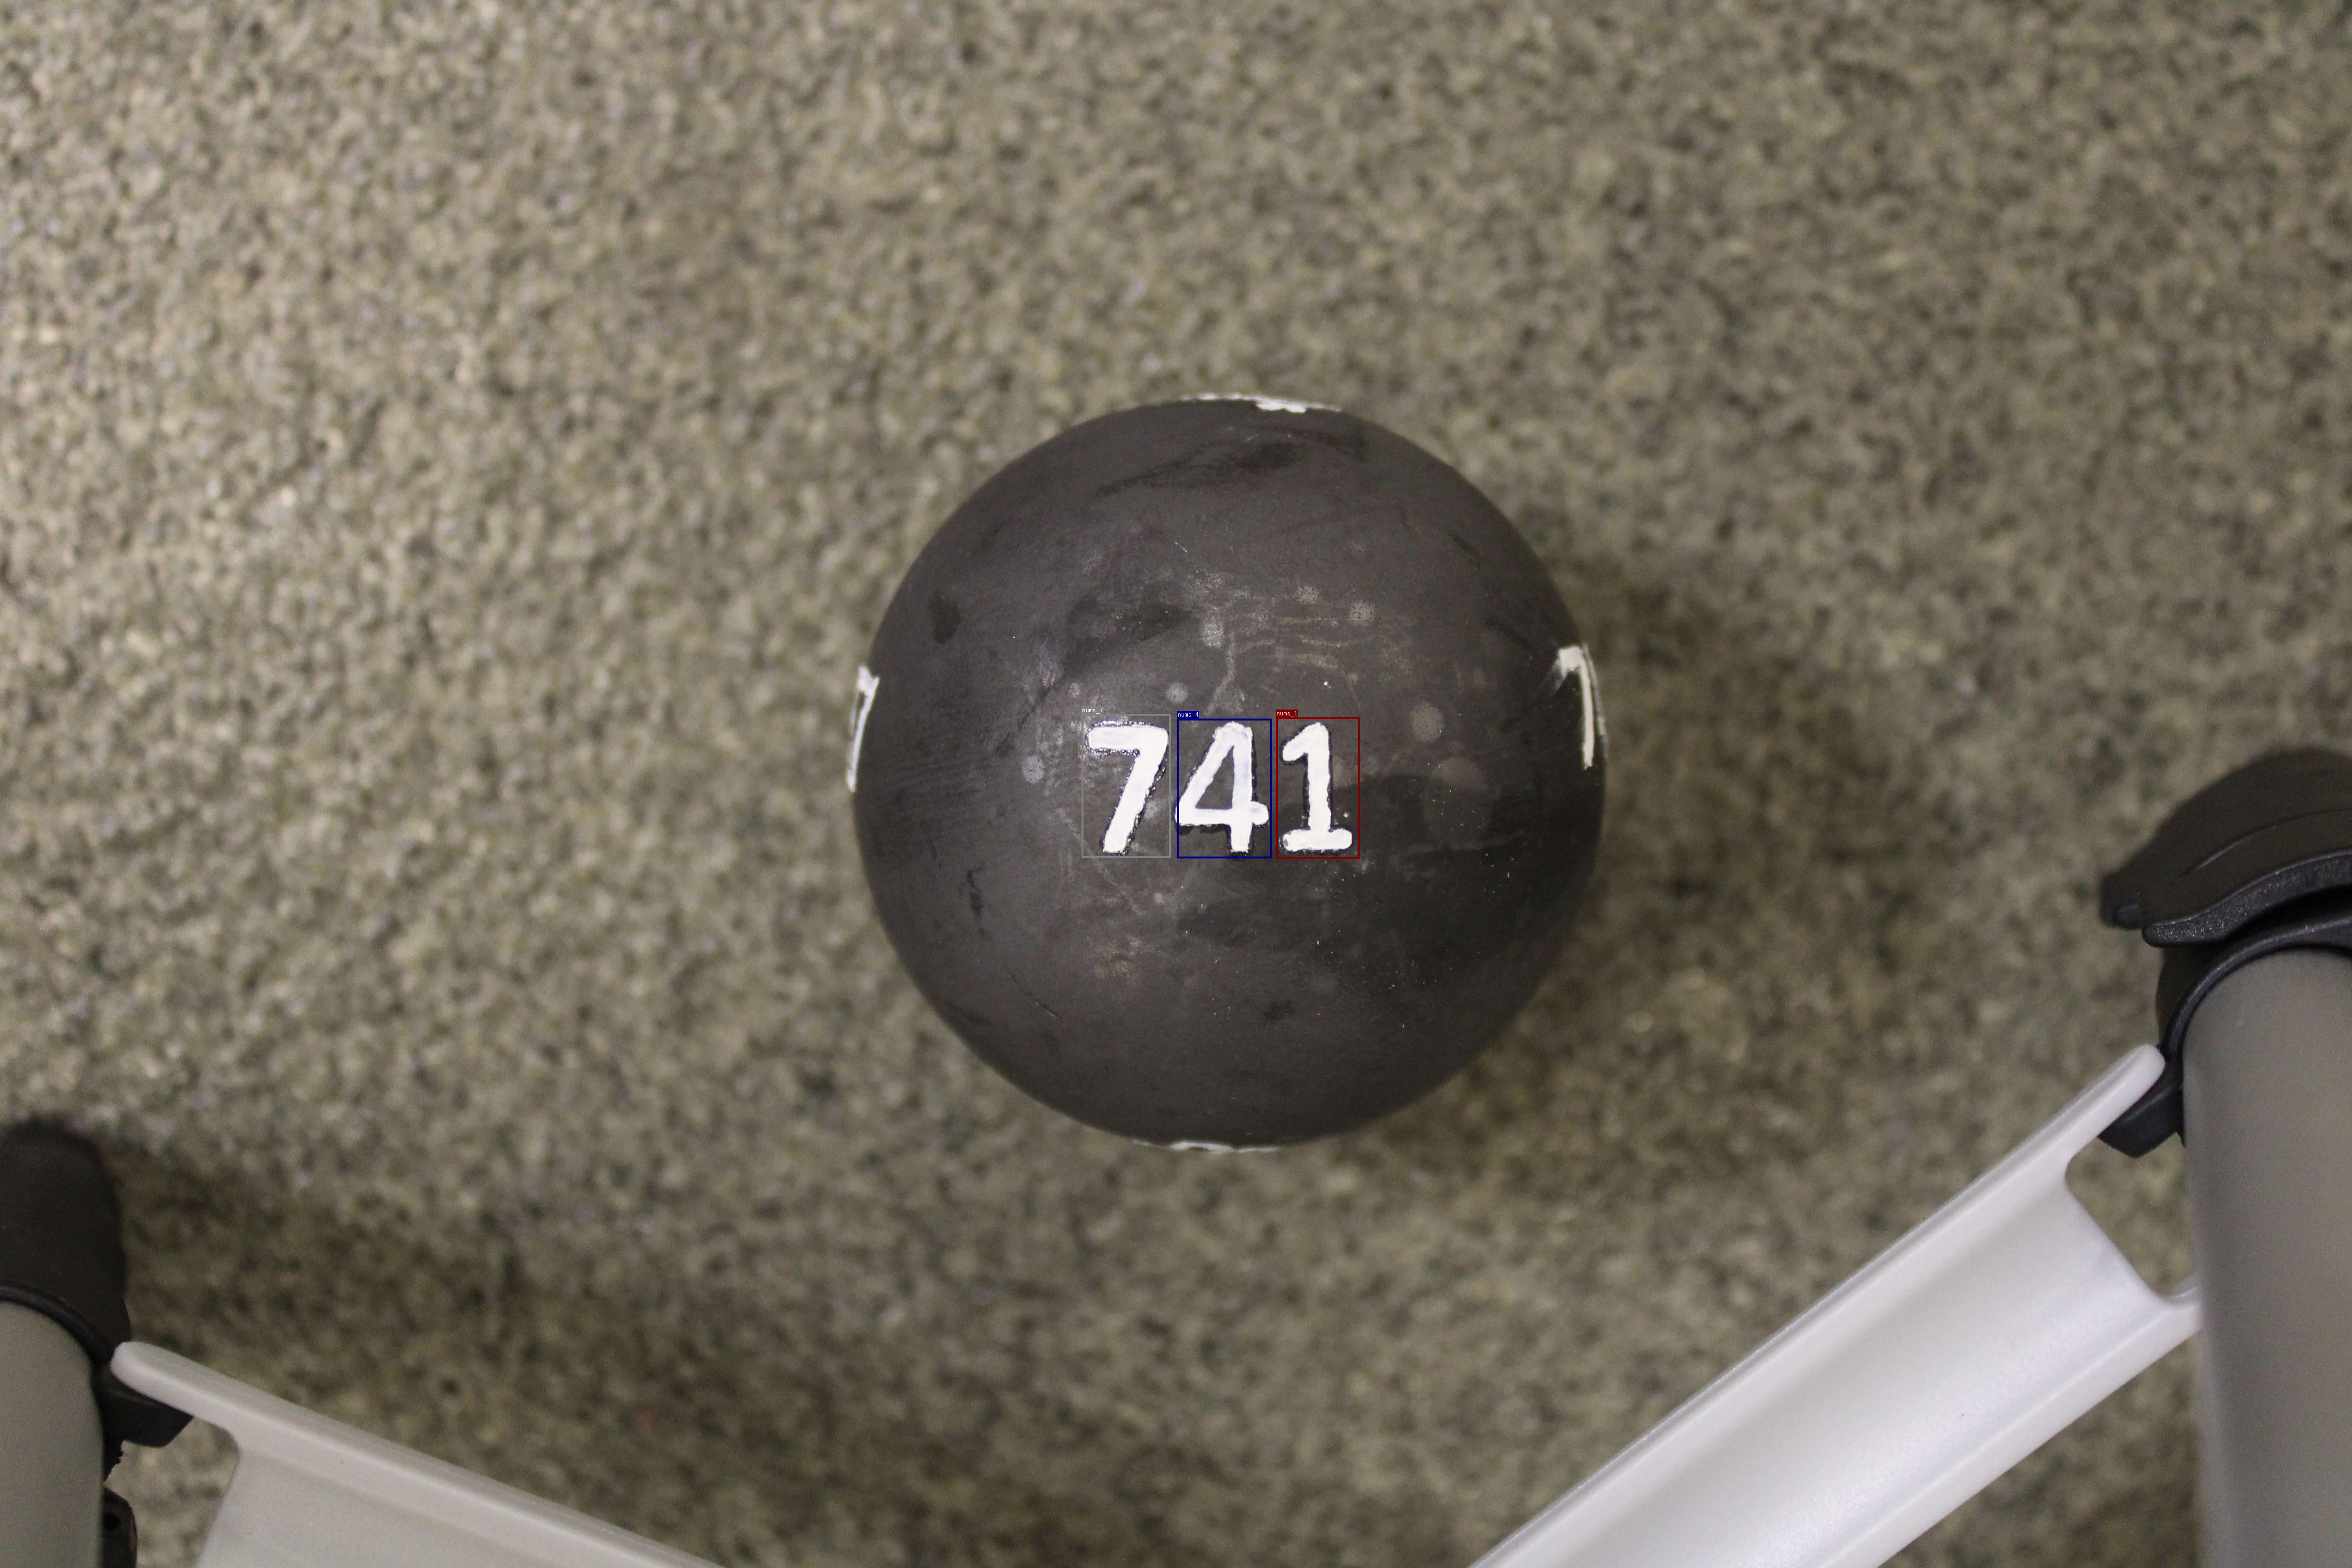nums_1: (1276, 717, 1360, 859)
nums_4: (1178, 719, 1272, 857)
nums_7: (1081, 714, 1171, 857)
